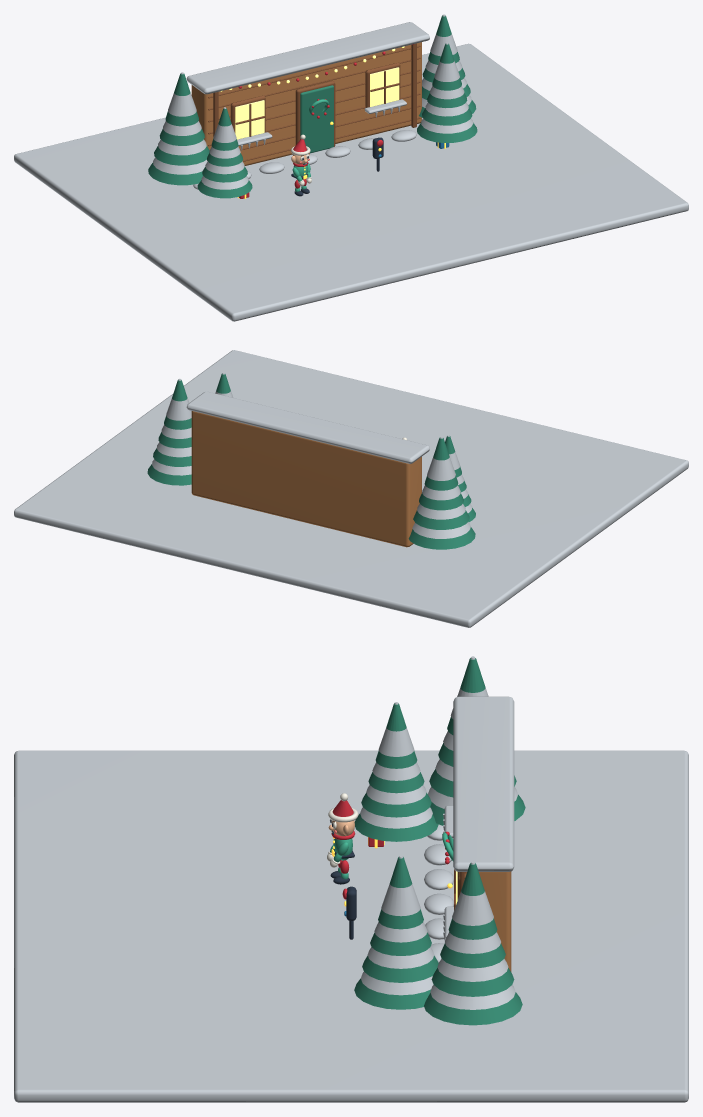
The model's file is chapter-10.glb.
3 views of the same model, one above another, from view 1: azimuth 30°, elevation 25°; view 2: azimuth 150°, elevation 25°; view 3: azimuth 270°, elevation 25° (orthographic). The views are drawn at different scales.
Visible parts, largest first — view 1: Schneeboden, Werkstatt, Schneegesims, Wichteltür, Warmes Fenster, Warmes Fenster.001, Tannenzweig.004, Tannenzweig.008, Tannenzweig.009, Türrahmen, Tannenzweig.011, Schnee.011 (+7 smaller); view 2: Schneeboden, Werkstatt, Schneegesims, Tannenzweig.008, Tannenzweig.009, Tannenzweig.011, Schnee.008, Schnee.011, Tannenzweig.015, Tannenzweig.012, Tannenzweig.010, Schnee.009 (+1 smaller); view 3: Schneeboden, Schneegesims, Werkstatt, Tannenzweig.012, Tannenzweig.013, Tannenzweig.015, Tannenzweig, Schnee.012, Tannenzweig.005, Tannenzweig.004, Schnee.015, Tannenzweig.007 (+15 smaller).
Part boxes in pixels (left/top/right/bottom): Schneeboden: left=14, top=43, right=688, bottom=321; Werkstatt: left=191, top=42, right=421, bottom=165; Schneegesims: left=186, top=22, right=429, bottom=94; Wichteltür: left=300, top=85, right=333, bottom=153; Warmes Fenster: left=235, top=100, right=264, bottom=139; Warmes Fenster.001: left=370, top=67, right=399, bottom=106; Tannenzweig.004: left=417, top=122, right=477, bottom=142; Tannenzweig.008: left=148, top=163, right=202, bottom=185; Tannenzweig.009: left=154, top=146, right=209, bottom=165; Türrahmen: left=295, top=81, right=335, bottom=146; Tannenzweig.011: left=165, top=73, right=198, bottom=126; Schnee.011: left=168, top=72, right=196, bottom=116; Schneeboden: left=14, top=350, right=688, bottom=627; Werkstatt: left=191, top=411, right=421, bottom=547; Schneegesims: left=186, top=391, right=429, bottom=463; Tannenzweig.008: left=408, top=527, right=475, bottom=549; Tannenzweig.009: left=413, top=510, right=469, bottom=529; Tannenzweig.011: left=424, top=437, right=458, bottom=490; Schnee.008: left=412, top=522, right=470, bottom=538; Schnee.011: left=427, top=436, right=455, bottom=480; Tannenzweig.015: left=164, top=380, right=191, bottom=429; Tannenzweig.012: left=147, top=464, right=191, bottom=485; Tannenzweig.010: left=419, top=493, right=463, bottom=510; Schnee.009: left=417, top=504, right=465, bottom=519; Schneeboden: left=14, top=750, right=688, bottom=1102; Schneegesims: left=453, top=696, right=514, bottom=871; Werkstatt: left=466, top=871, right=511, bottom=971; Tannenzweig.012: left=424, top=992, right=522, bottom=1025; Tannenzweig.013: left=431, top=968, right=514, bottom=996; Tannenzweig.015: left=448, top=863, right=497, bottom=939; Tannenzweig: left=354, top=813, right=438, bottom=841; Schnee.012: left=430, top=985, right=515, bottom=1009; Tannenzweig.005: left=362, top=955, right=438, bottom=982; Tannenzweig.004: left=354, top=978, right=430, bottom=1009; Schnee.015: left=452, top=861, right=493, bottom=925; Tannenzweig.007: left=378, top=857, right=423, bottom=929.
Bounding box in the file's own units: 18 × 4.39 × 15.
